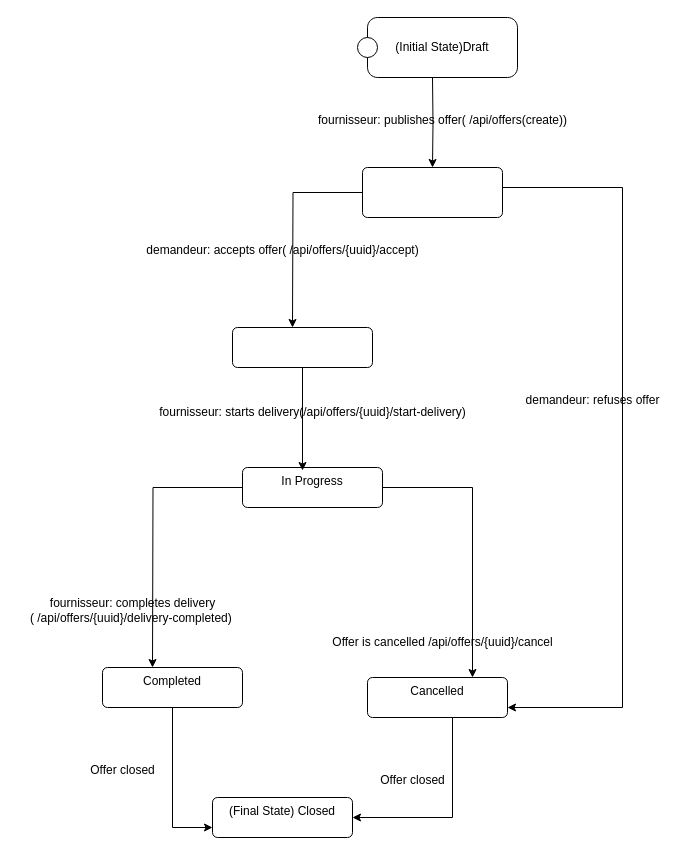
Some shapes in this 689 by 855 pixel diagram are drawn without their labels. Here are the shapes that lost their labels. From the top down, the centre of each, then its label:
(432,192): SUBMITTED
(302,347): accepted
